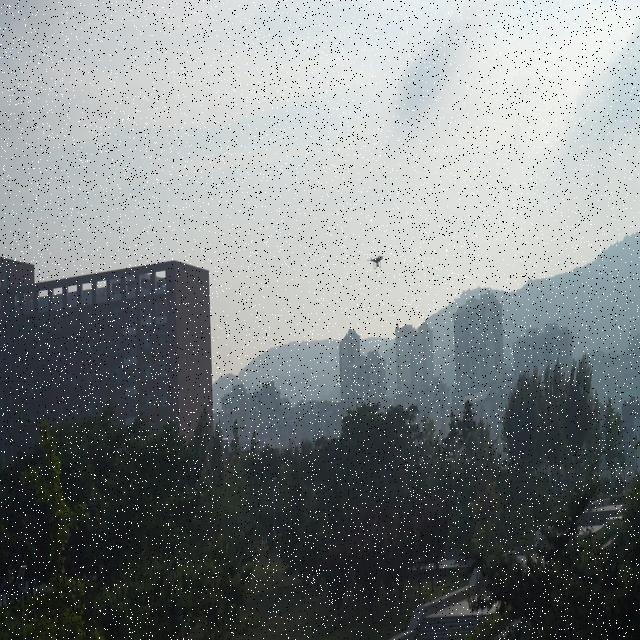UAV: (366, 256, 384, 270)
